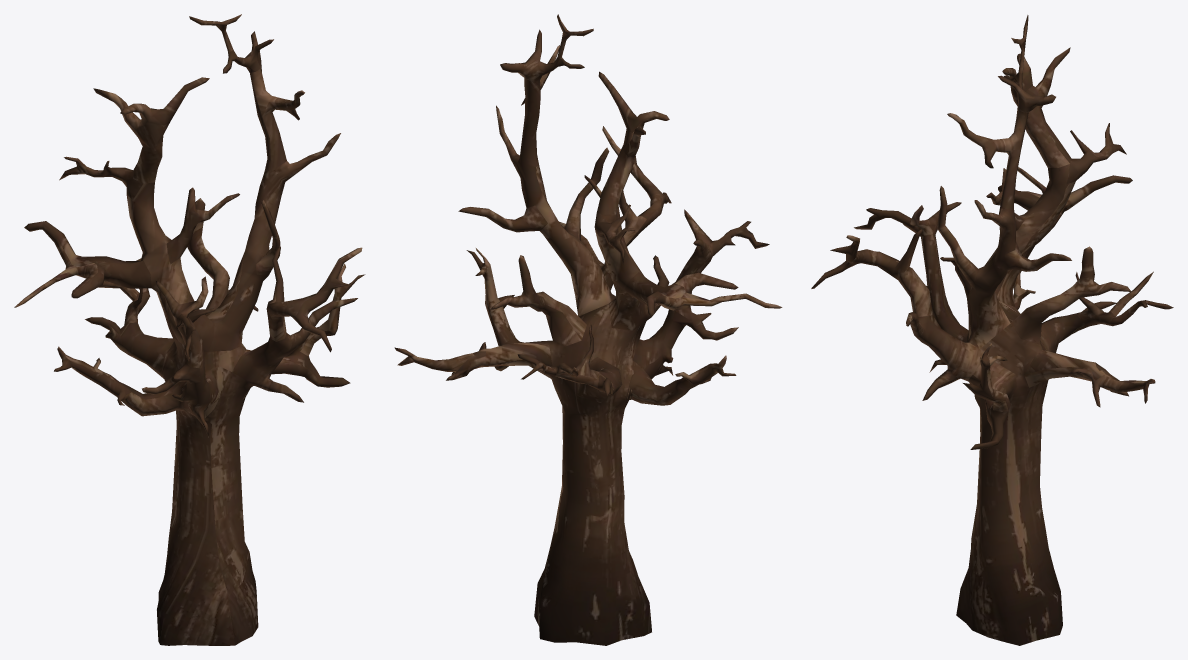
3 renders of one model, left to right at view 1: azimuth 30°, elevation 25°; view 2: azimuth 150°, elevation 25°; view 3: azimuth 270°, elevation 25°, orthographic.
Visible parts, largest first — view 1: body0_model0_lod0_mesh0; view 2: body0_model0_lod0_mesh0; view 3: body0_model0_lod0_mesh0.
Part boxes in pixels (x1,y1,x2,y2): body0_model0_lod0_mesh0: (14,14,365,645); body0_model0_lod0_mesh0: (394,14,782,645); body0_model0_lod0_mesh0: (811,15,1173,645).
Size of the model in its own units: 411 by 717 by 391.
1 material, 1 textured.
